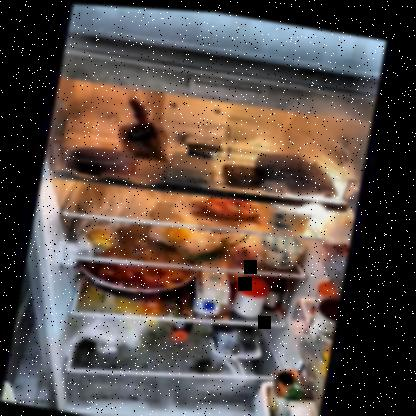broccoli: (210, 320, 268, 358)
butter: (222, 158, 266, 186)
carrot: (192, 192, 265, 223)
cheese: (168, 151, 219, 182)
green_chillies: (188, 238, 234, 264)
lemon: (163, 218, 200, 244), (86, 223, 124, 248)
milk: (200, 266, 238, 302)
salami: (68, 143, 142, 178)
tomato: (232, 242, 264, 264)
yoghurt: (260, 229, 310, 266), (270, 198, 317, 230), (188, 139, 226, 157)
